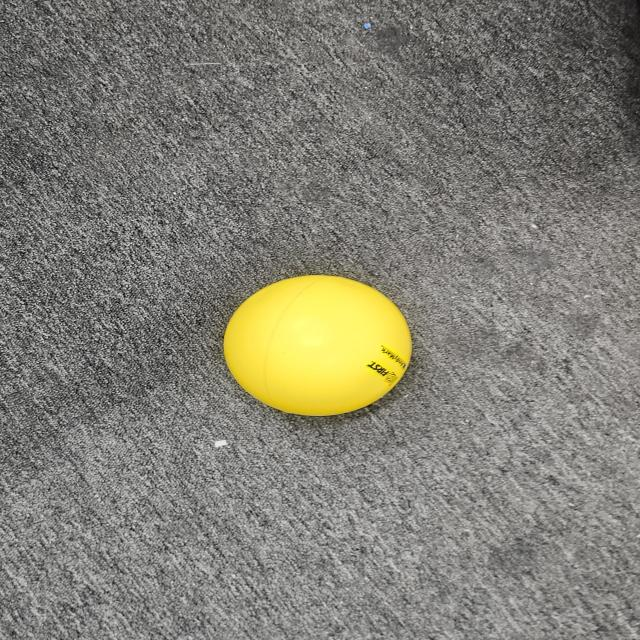Fuel: (212, 265, 429, 427)
